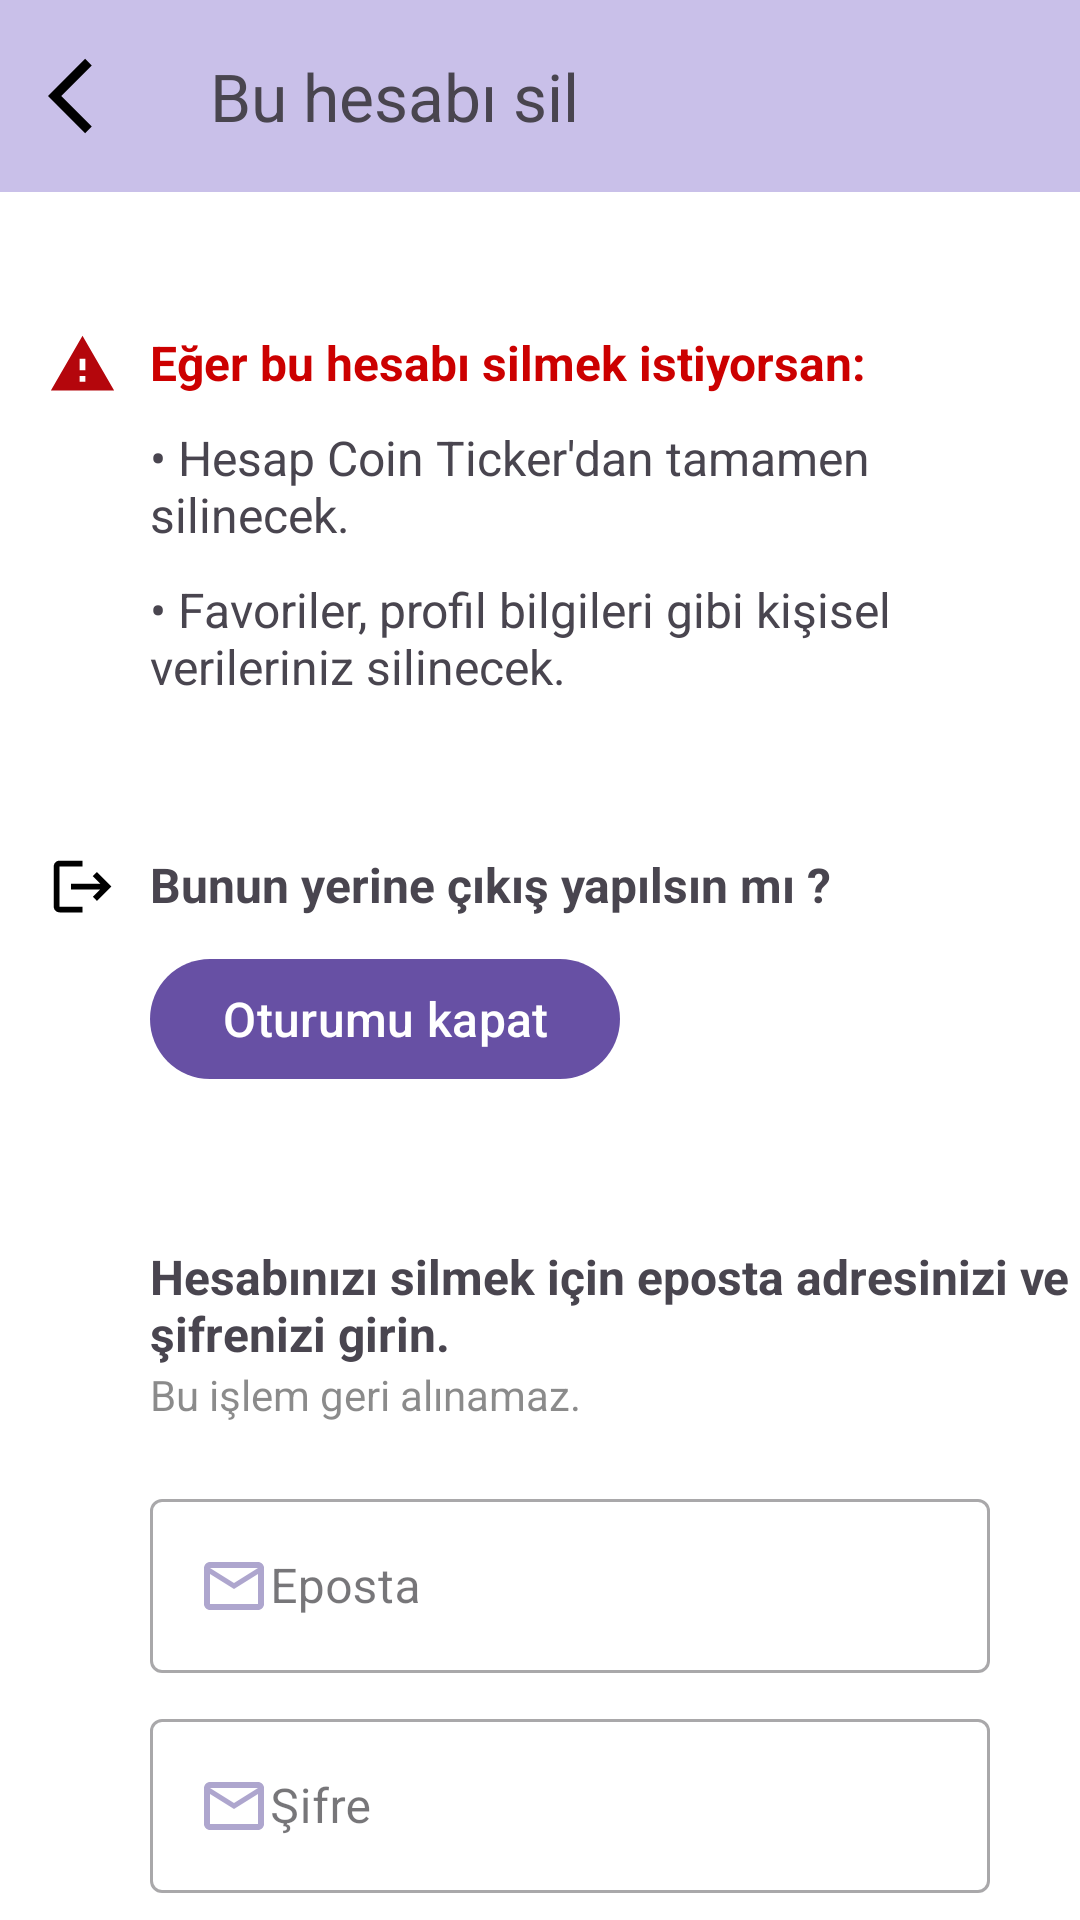

Screen size 1080×1920. Icon name, then its box in pixels as (x1, y1, x2, y2):
settings back: (48, 59, 92, 133)
warning: (51, 336, 114, 391)
